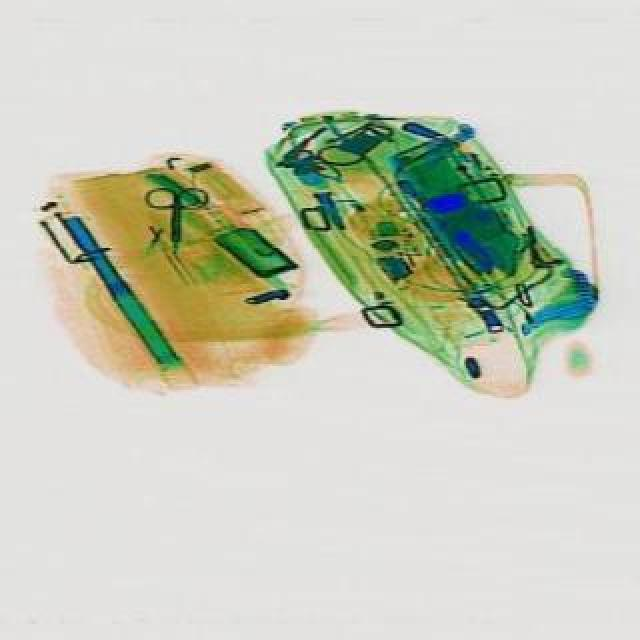pliers: (140, 190, 204, 258)
